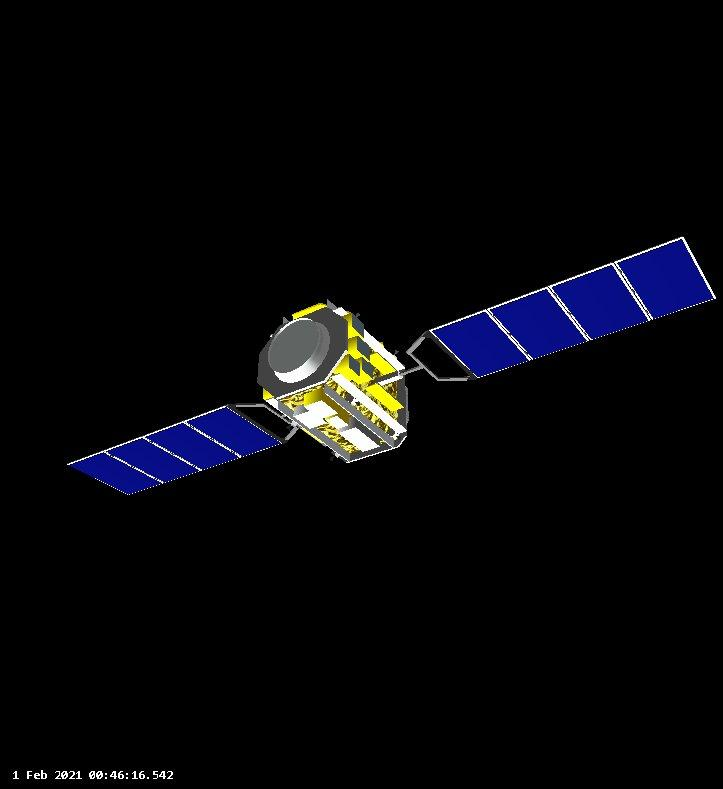body: (253, 301, 413, 466)
solar: (429, 232, 717, 382), (66, 401, 286, 501)
thruster: (268, 316, 326, 376)
